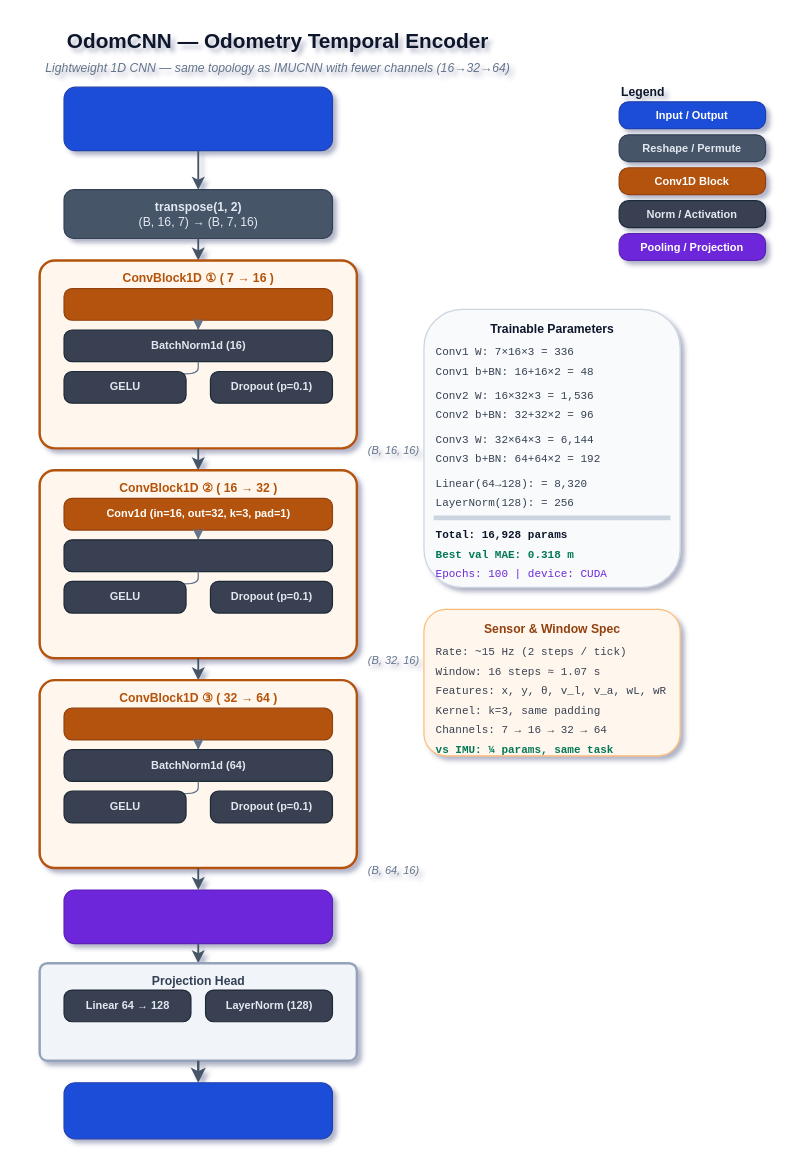
The diagram is 794 pixels wide and 1168 high, and some of its shapes have lost their labels. Each missing label, with the centre of its shape:
BatchNorm1d (32): point 197,555
Conv1d (in=32, out=64, k=3, pad=1): point 197,723
Conv1d (in=7, out=16, k=3, pad=1): point 197,303
Embedding z z ∈ ℝ B × 128: point 197,1110
Global Average Pooling mean(dim=2) → (B, 64): point 197,916
Odometry Window x ∈ ℝ B × 16 × 7 odom_xy · θ · v_lin · v_ang · wheel_L · wheel_R: point 197,118
